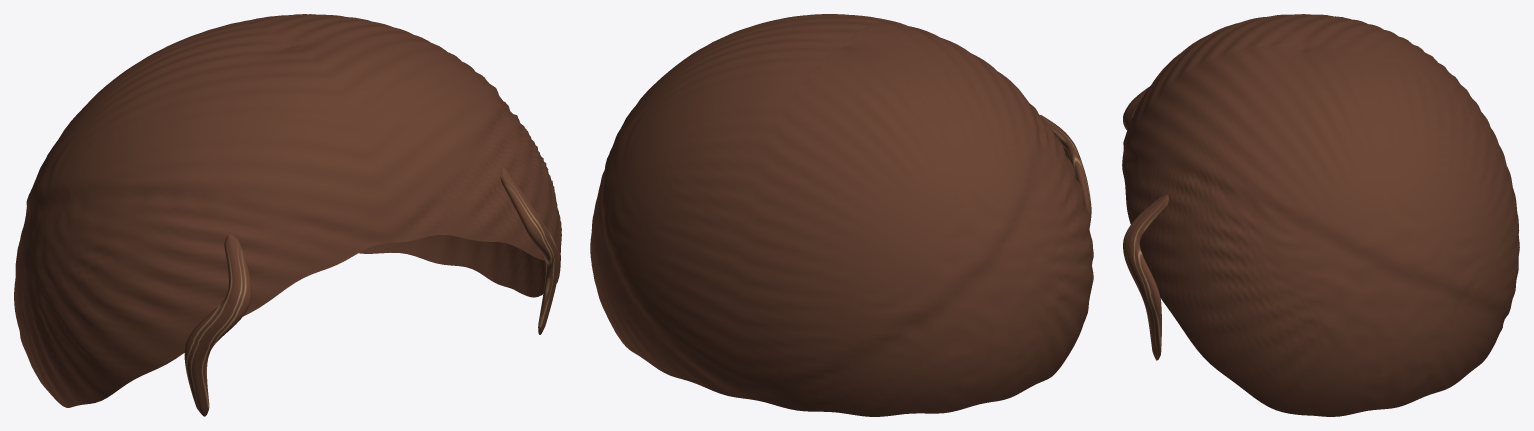
The model's file is Highlights-d12db29197b1252-hair.glb.
3 renders of one model, left to right at view 1: azimuth 30°, elevation 25°; view 2: azimuth 150°, elevation 25°; view 3: azimuth 270°, elevation 25°, orthographic. The views are drawn at different scales.
Parts seen in each view (by area): view 1: 226 hair / Hair / chestnut226.001; view 2: 226 hair / Hair / chestnut226.001; view 3: 226 hair / Hair / chestnut226.001.
Boxes of the visible parts, <box> form: 226 hair / Hair / chestnut226.001: <box>14,14,561,416</box>; 226 hair / Hair / chestnut226.001: <box>590,14,1093,416</box>; 226 hair / Hair / chestnut226.001: <box>1122,14,1519,416</box>.
Bounding box in the file's own units: 0.9981 × 0.5988 × 0.7846.
1 material, 1 textured.
